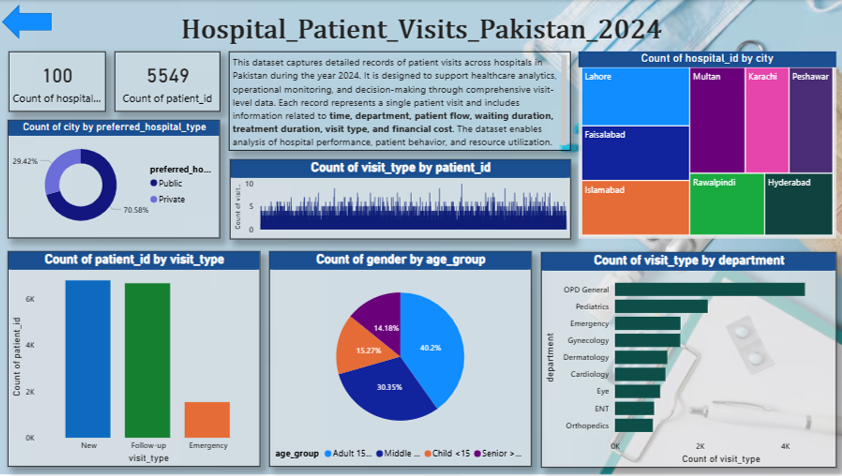

Layout of this report page (visuals, bound fields, positions):
{"tool":"powerbi","page":{"name":"basic of dataset","canvas":[1280,720],"ordinal":1},"visuals":[{"type":"columnChart","fields":{"Y":["CountNonNull(Patient_Visits.patient_id)"],"Category":["Patient_Visits.visit_type"]},"box":[14.8,380.3,382,326.2],"z":0},{"type":"card","fields":{"Values":["Count(Patient_Visits.hospital_id)"]},"box":[15.5,77.6,146.6,91.4],"z":1000},{"type":"card","fields":{"Values":["Count(Patient_Visits.patient_id)"]},"box":[175.9,77.6,160.3,91.4],"z":2000},{"type":"ribbonChart","fields":{"Category":["Patient_Visits.patient_id"],"Y":["CountNonNull(Patient_Visits.visit_type)"]},"box":[350,241.4,515.5,120.7],"z":3000},{"type":"barChart","fields":{"Y":["CountNonNull(Patient_Visits.visit_type)"],"Category":["Patient_Visits.department"]},"box":[820.7,381,446.6,325.9],"z":4000},{"type":"pieChart","fields":{"Category":["Patients.age_group"],"Y":["CountNonNull(Patients.gender)"]},"box":[409.8,380.3,396.7,326.2],"z":5000},{"type":"donutChart","fields":{"Category":["Patients.preferred_hospital_type"],"Y":["CountNonNull(Patients.city)"]},"box":[14.8,182,321.3,178.7],"z":6000},{"type":"treemap","fields":{"Group":["Hospitals.city"],"Values":["CountNonNull(Hospitals.hospital_id)"]},"box":[877.6,77.6,389.7,282.8],"z":7000},{"type":"textbox","box":[0,17.4,1279.7,60.9],"z":9000},{"type":"textbox","box":[348.3,77.6,517.2,150],"z":10000},{"type":"shape","box":[5.8,7.2,75.4,52.2],"z":11000}]}

Visuals, with their boxes in screenshot pixels (x1, y1, x2, y2), scaled from the page's 1280x720 canvas onto the 842x476 screenshot:
columnChart - CountNonNull(Patient_Visits.patient_id) x Patient_Visits.visit_type: box=[10, 251, 261, 467]
card - Count(Patient_Visits.hospital_id): box=[10, 51, 107, 112]
card - Count(Patient_Visits.patient_id): box=[116, 51, 221, 112]
ribbonChart - Patient_Visits.patient_id x CountNonNull(Patient_Visits.visit_type): box=[230, 160, 569, 239]
barChart - CountNonNull(Patient_Visits.visit_type) x Patient_Visits.department: box=[540, 252, 834, 467]
pieChart - Patients.age_group x CountNonNull(Patients.gender): box=[270, 251, 531, 467]
donutChart - Patients.preferred_hospital_type x CountNonNull(Patients.city): box=[10, 120, 221, 238]
treemap - Hospitals.city x CountNonNull(Hospitals.hospital_id): box=[577, 51, 834, 238]
textbox: box=[0, 12, 841, 52]
textbox: box=[229, 51, 569, 150]
shape: box=[4, 5, 53, 39]
